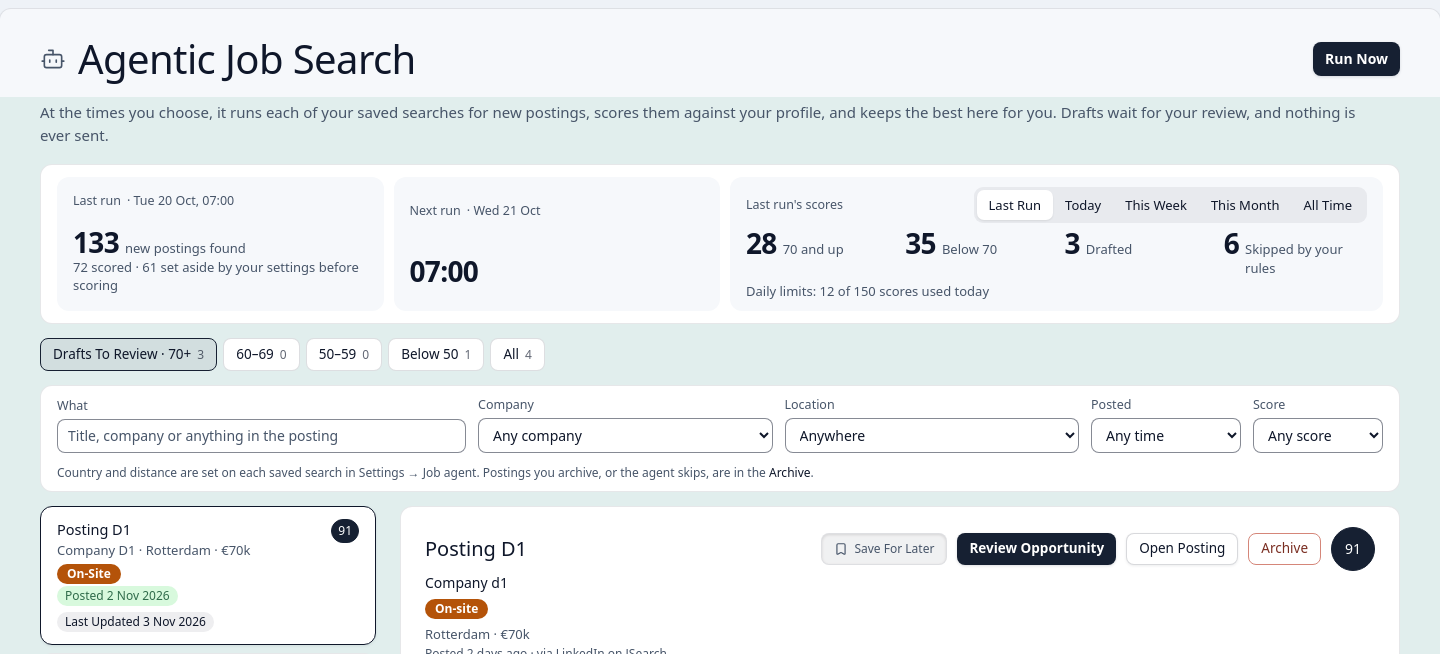
it: AgentScreen (E16-6) › opens on Drafts to review, All last; under All, drafts first, with the one picked beside them: Review Opportunity and Archive, no Approve
The image size is (1440, 654).
Click the button "All 4".
click(518, 354)  # box x1=490 y1=338 x2=545 y2=371
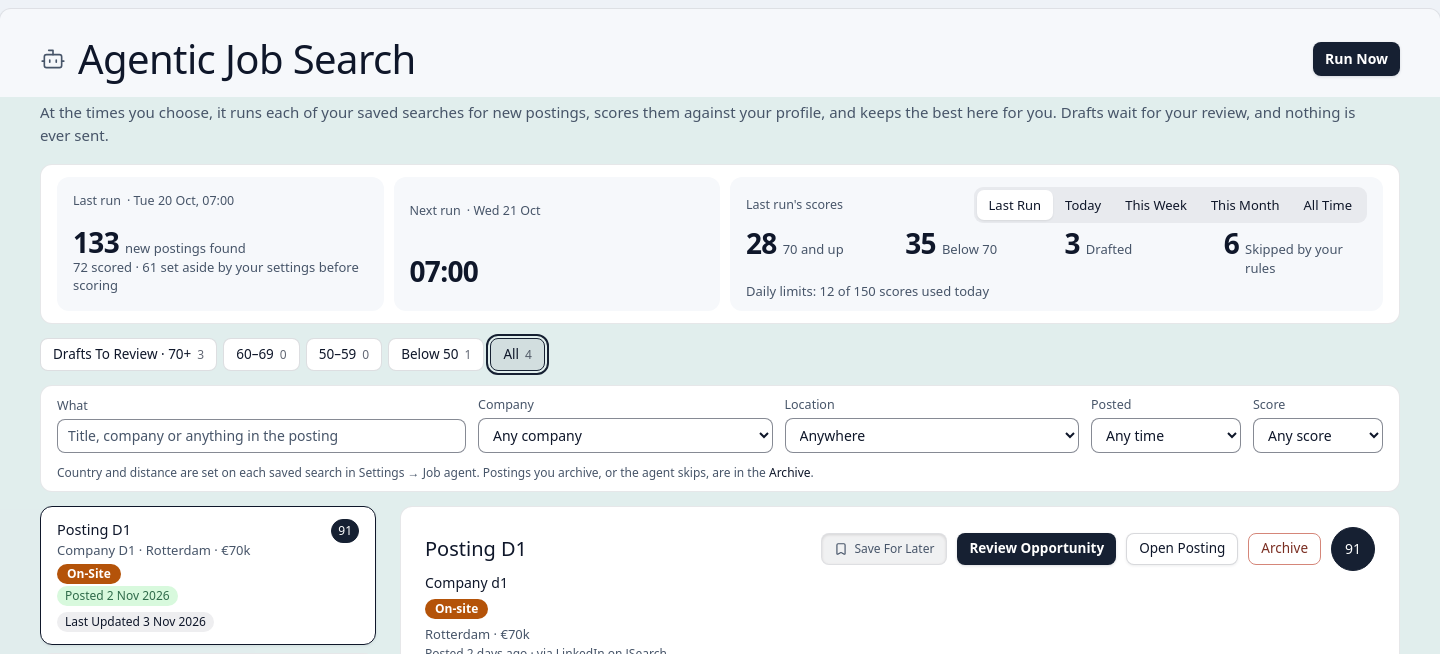
expect the button with aria-label "Show this job's details on the right" shows "Posting d1": met, box x1=40 y1=506 x2=376 y2=645
expect the button "All 4" is pressed: met, box x1=490 y1=338 x2=545 y2=371
